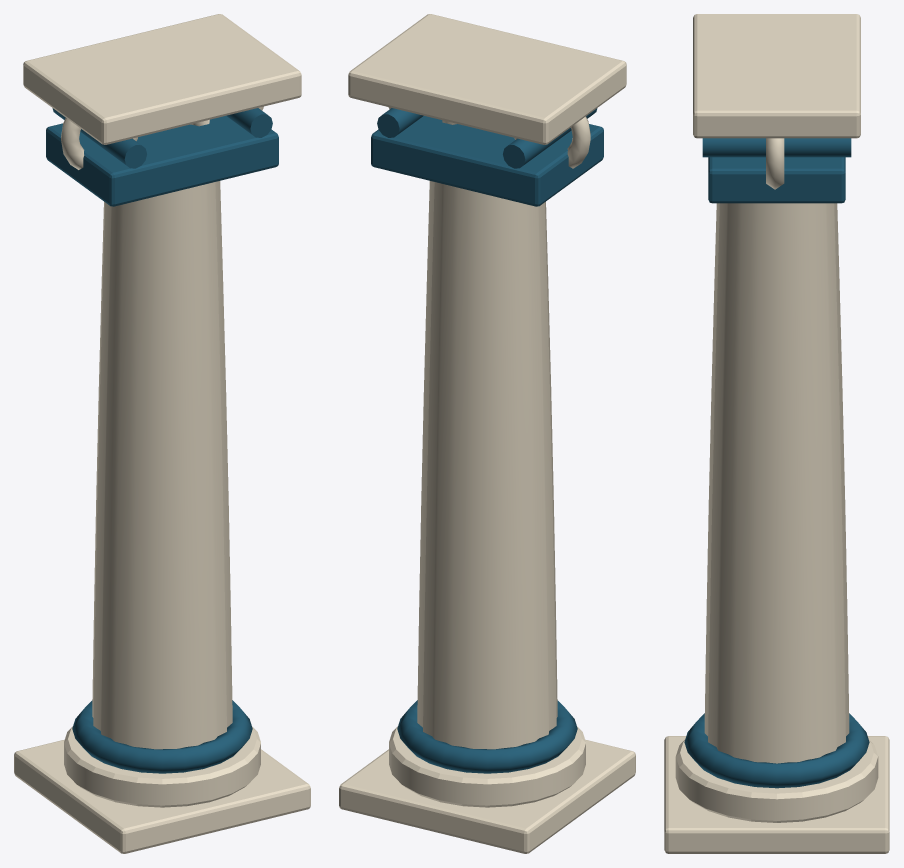
File: column_ionic_aegean_LOD0.glb
3 views of the same model, side by side, from view 1: azimuth 30°, elevation 25°; view 2: azimuth 150°, elevation 25°; view 3: azimuth 270°, elevation 25° (orthographic). The views are drawn at different scales.
Visible parts, largest first — view 1: column_ionic_aegean_LOD0; view 2: column_ionic_aegean_LOD0; view 3: column_ionic_aegean_LOD0.
Boxes of the visible parts, x1=… form: column_ionic_aegean_LOD0: x1=14, y1=14, x2=310, y2=853; column_ionic_aegean_LOD0: x1=339, y1=14, x2=635, y2=853; column_ionic_aegean_LOD0: x1=664, y1=14, x2=889, y2=853.
Size of the model in its own units: 1.27 by 4.31 by 1.18.
